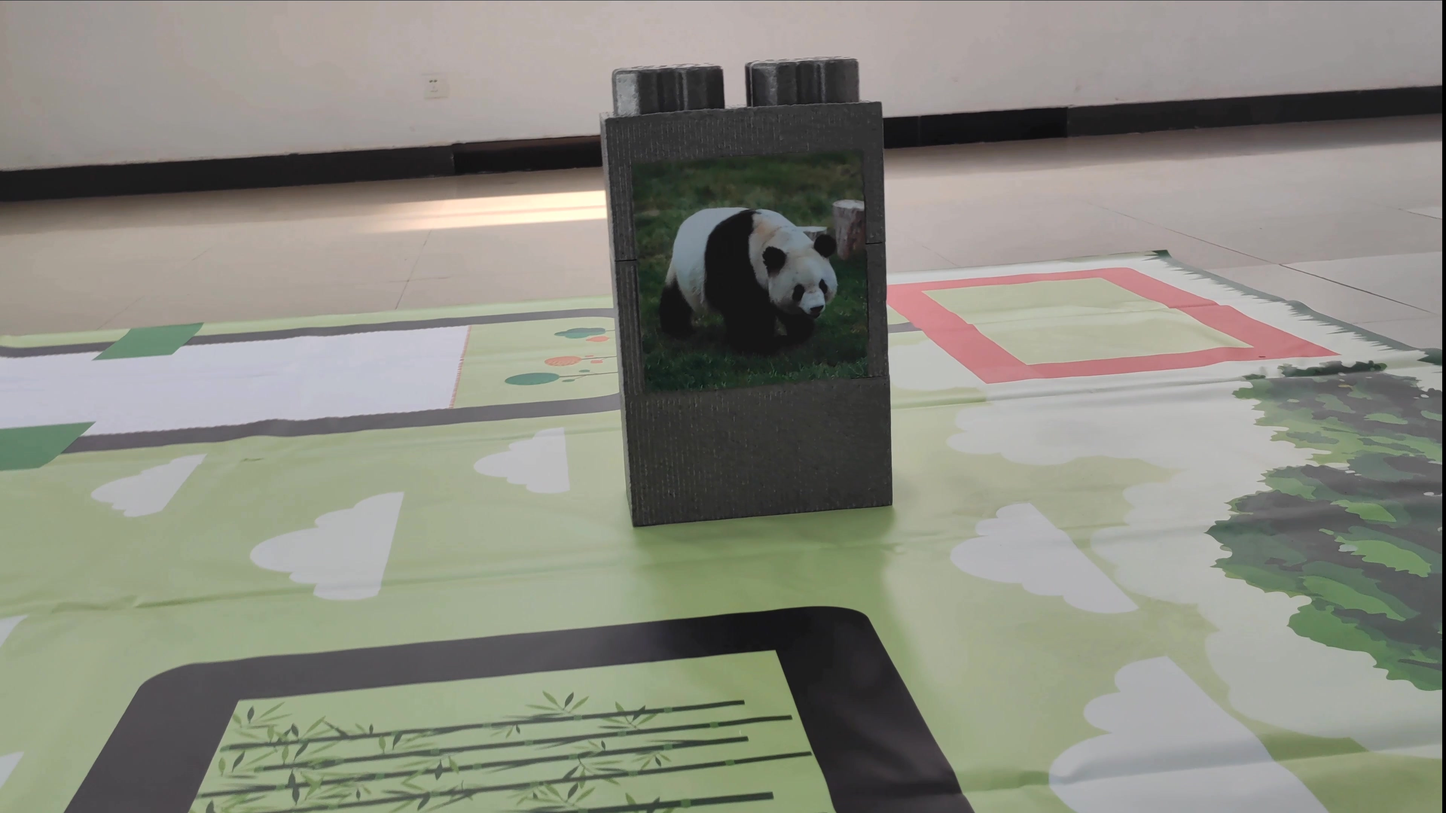panda: (648, 189, 872, 351)
